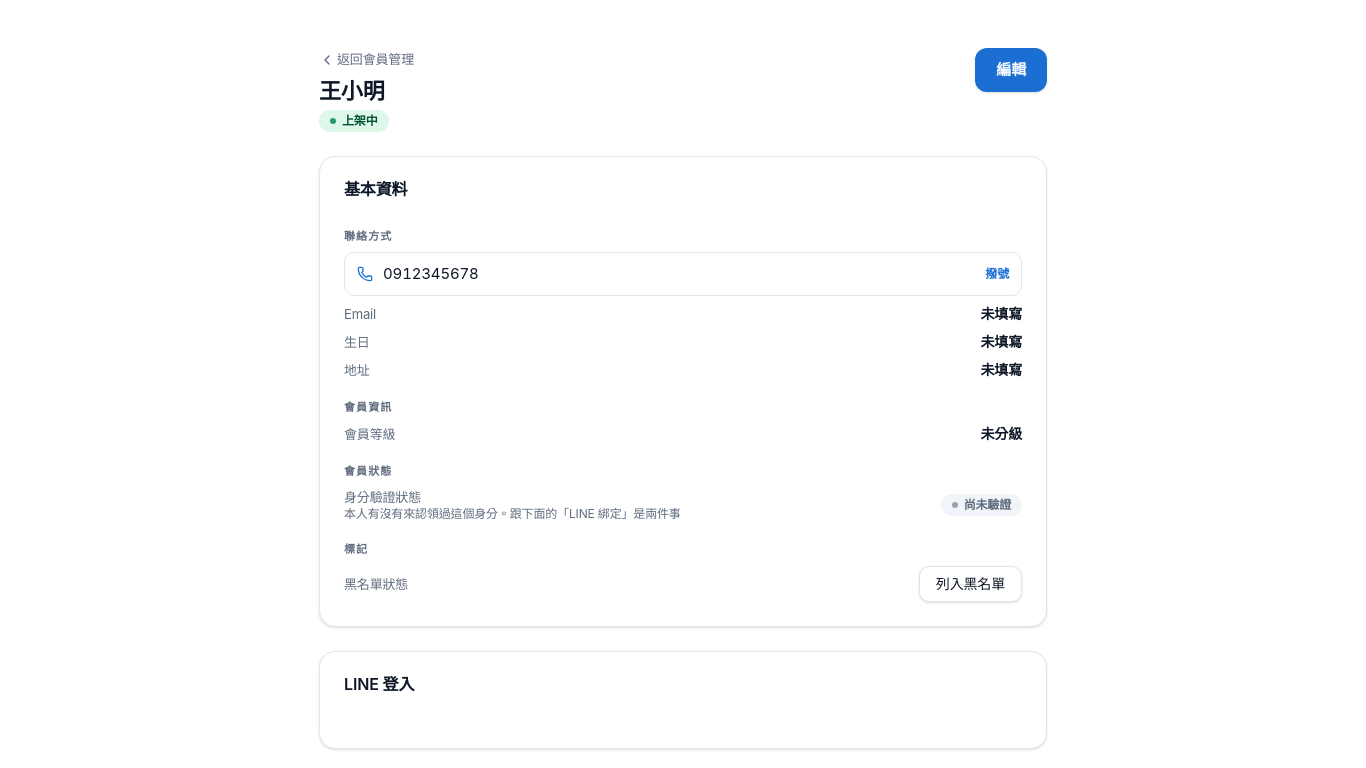
Test: #1037 會員詳細頁的推薦碼 / 推薦名單隱藏 › #1037 第 2 輪:隱藏時「編輯會員資料」沒有推薦人唯讀列,副標題也不提推薦人
Click the button "編輯".
click(1011, 70)  # box [975, 48, 1047, 92]
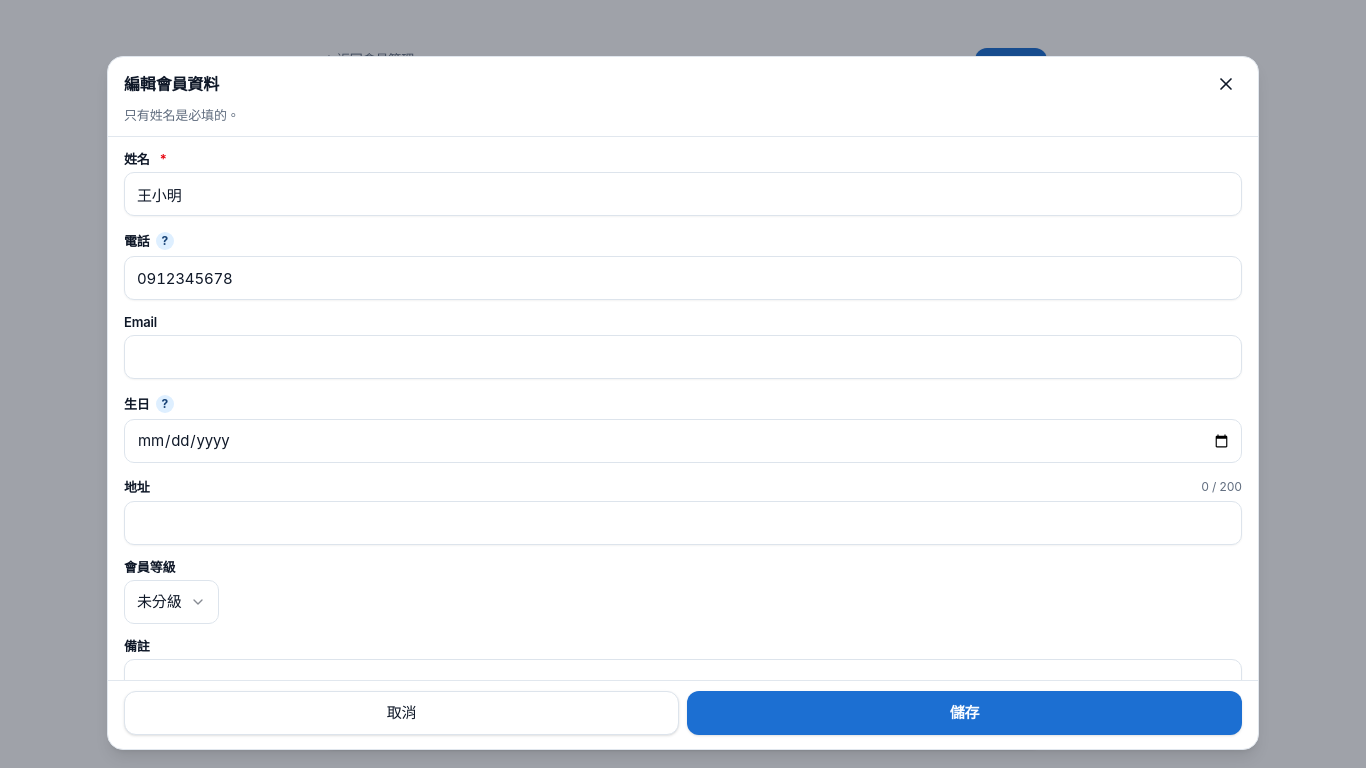
Expected: the dialog shows "只有姓名是必填的。", [124, 107, 240, 123]
